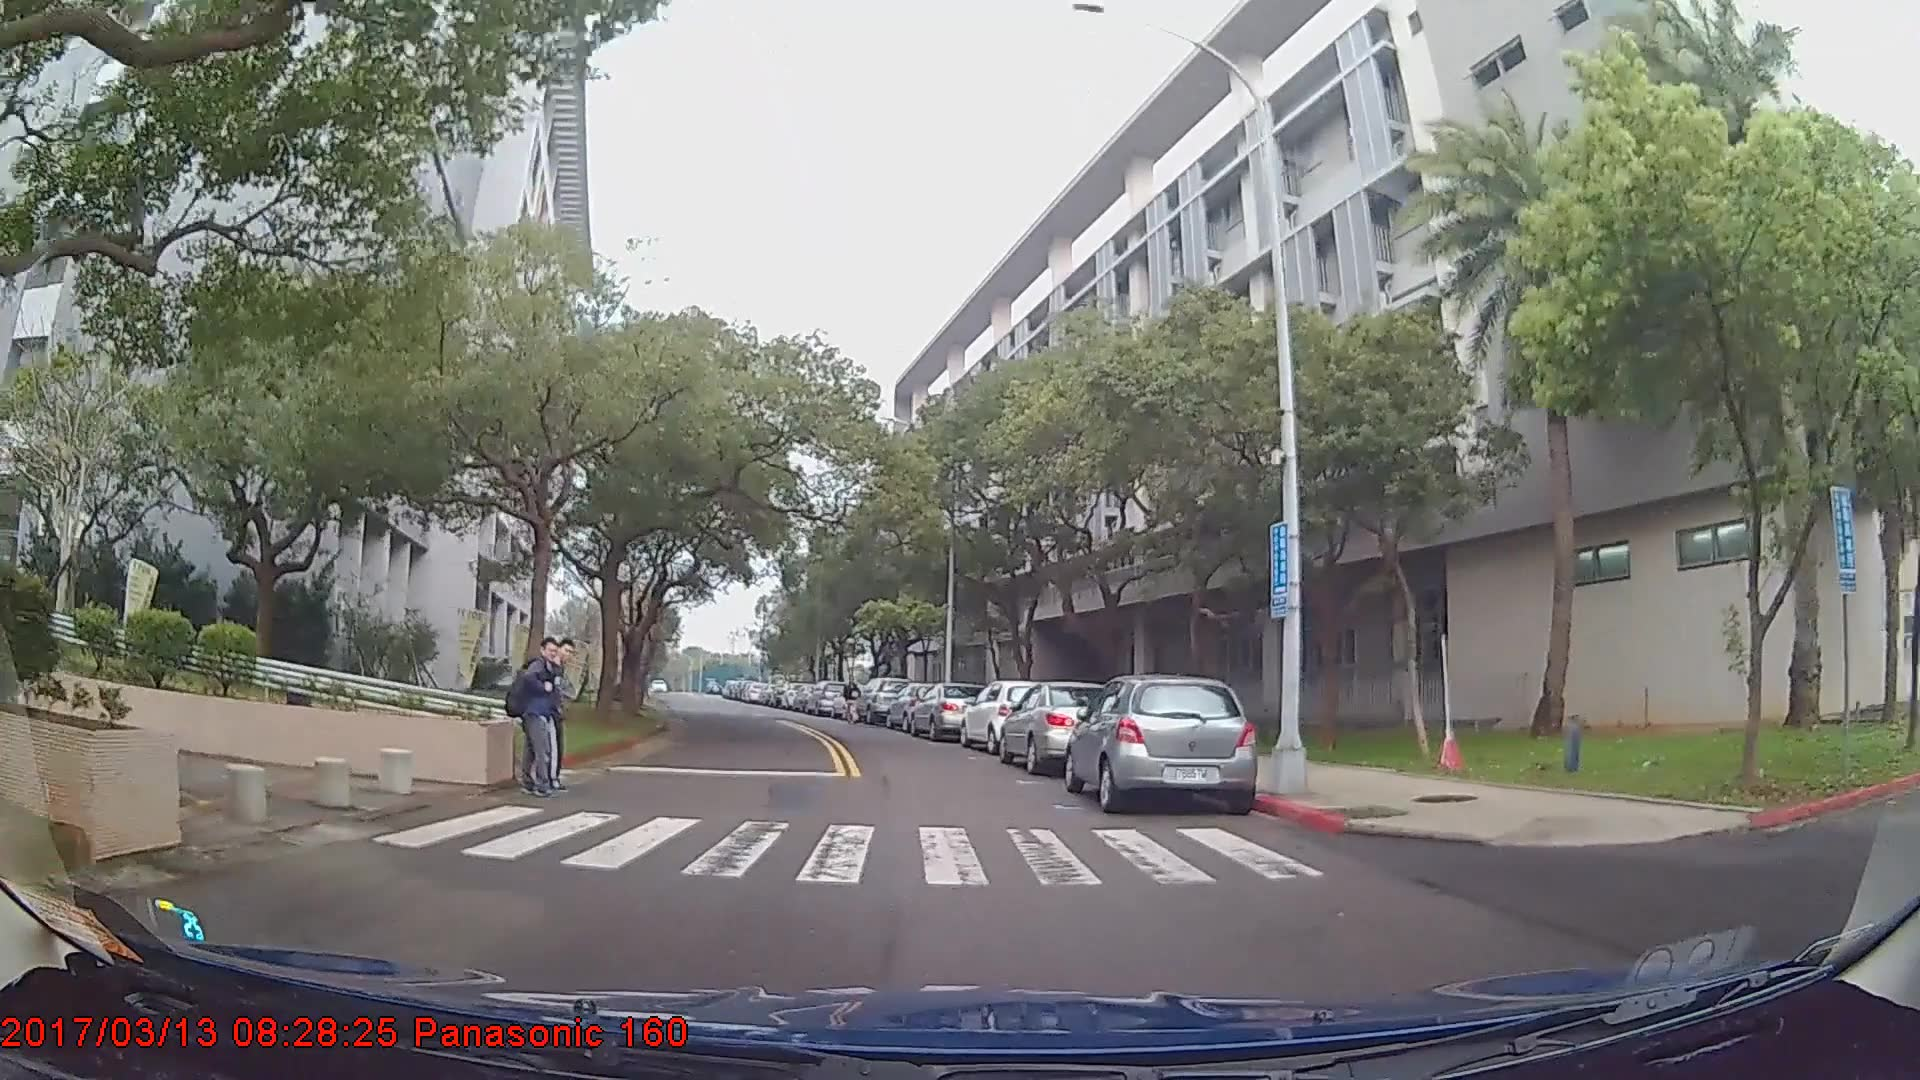pedestrian: (505, 629, 571, 804), (844, 677, 864, 727)
vehicle: (1064, 674, 1258, 815), (997, 680, 1122, 775), (960, 679, 1057, 755), (907, 679, 992, 741), (855, 674, 914, 721), (807, 678, 846, 716)
